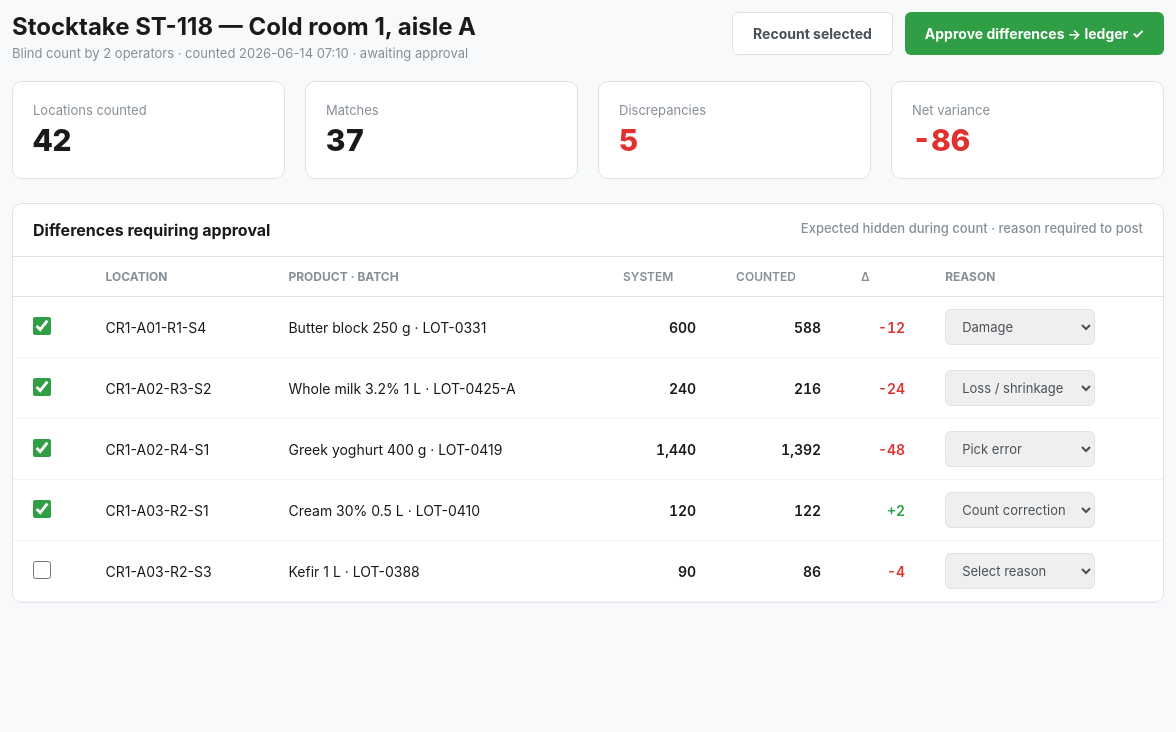
Test case: StocktakeScreen › requires a reason on every selected row before approval
The image size is (1176, 732).
Check: the text "Butter block 250 g · LOT-0331" is shown, box 268,296 -> 603,358
Check: the button "Approve differences → ledger ✓" is enabled, box 905,12 -> 1164,55
Select the 5th row (no reason) → approval blocked until a reason is set.
Click the checkbox named "select CR1-A03-R2-S3". click: (42,570)
box: 33,560 -> 51,578
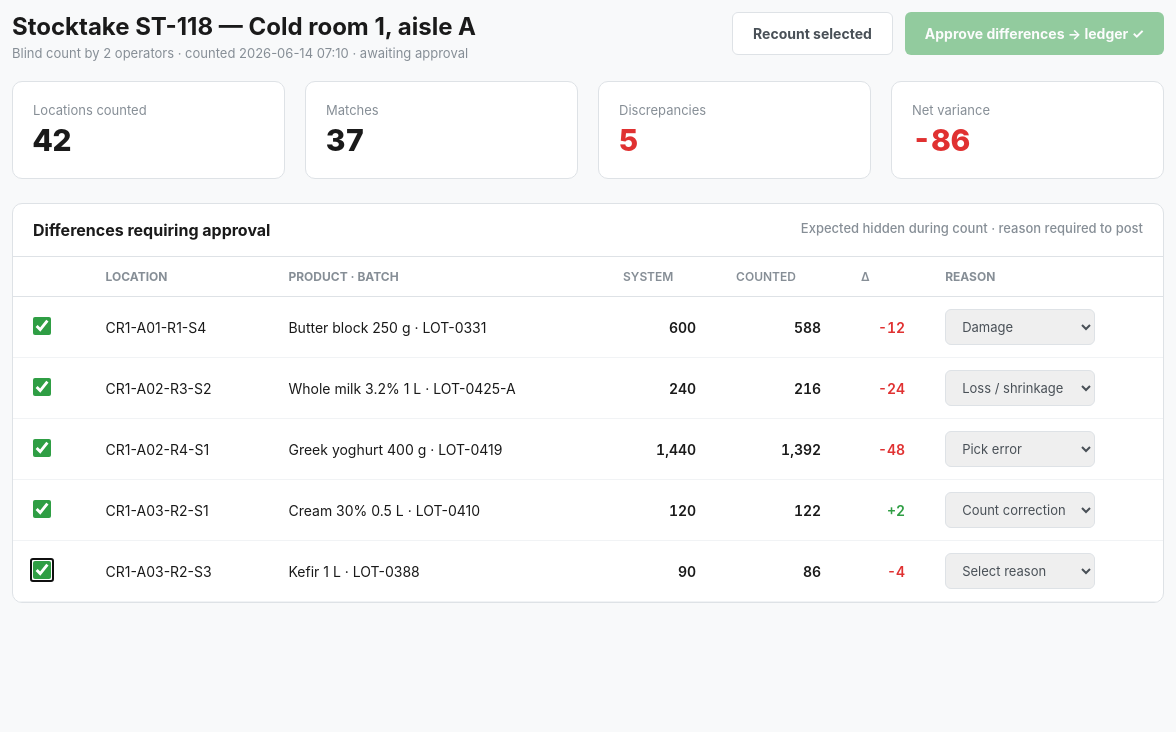
Check: the button "Approve differences → ledger ✓" is disabled, box 905,12 -> 1164,55
Select "Loss / shrinkage" in the dropdown named "reason CR1-A03-R2-S3". click: (1020,571)
box: 945,553 -> 1095,589
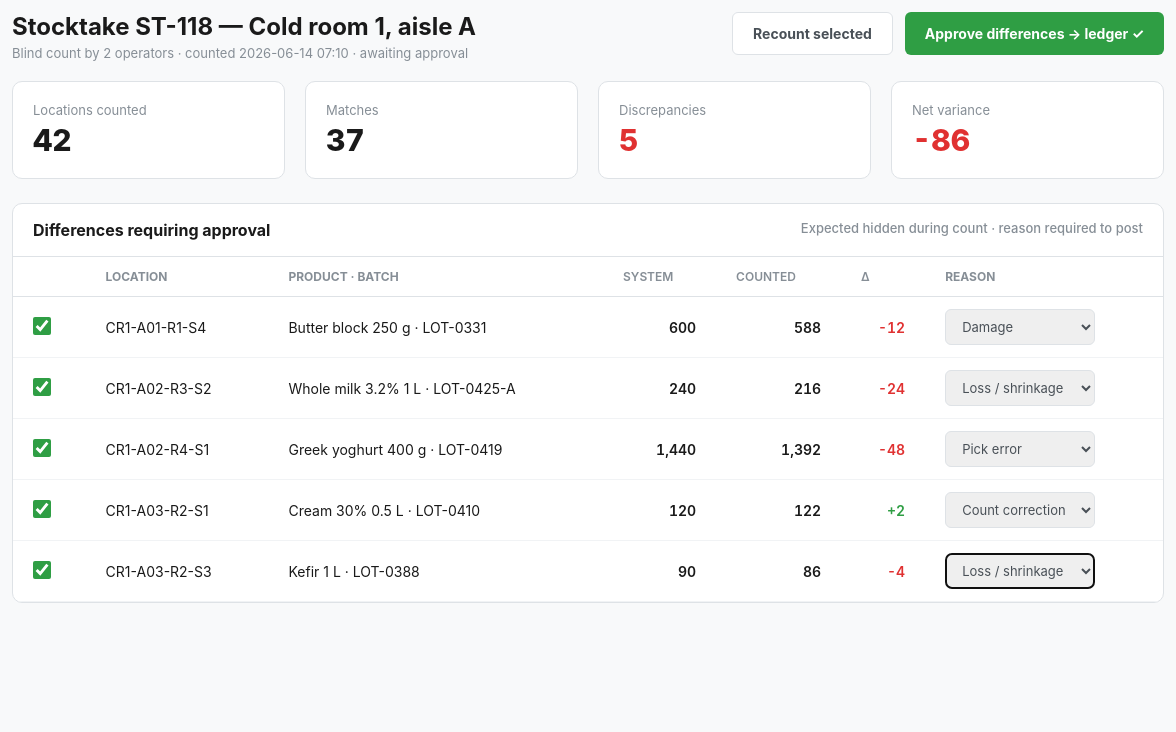
Check: the button "Approve differences → ledger ✓" is enabled, box 905,12 -> 1164,55
